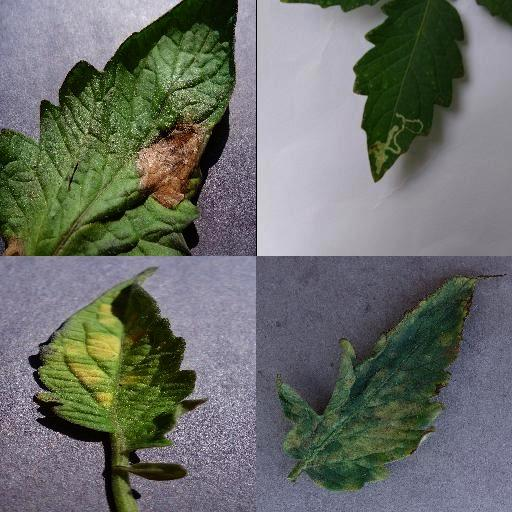Late Blight: (0, 0, 239, 256)
Leaf Miner: (351, 1, 465, 185)
Leaf Mold: (278, 274, 476, 490), (34, 265, 208, 453)
